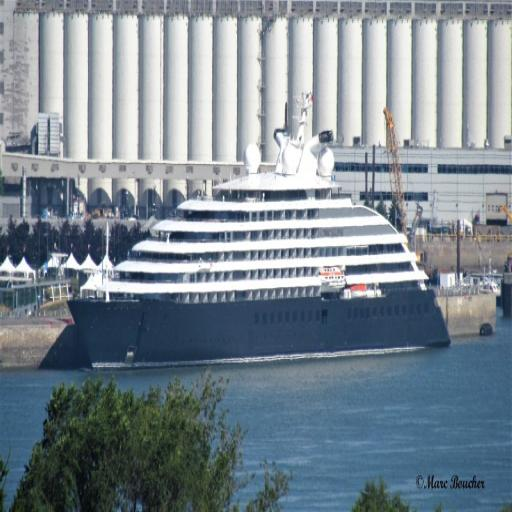cruises: (66, 119, 454, 370)
